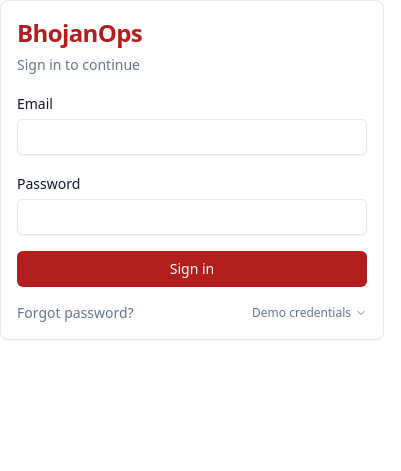
Scenario: LoginForm › toggles demo creds section when the button is clicked
The image size is (401, 471).
Click the button "Demo credentials" at (310, 313), box left=252, top=305, right=367, bottom=321
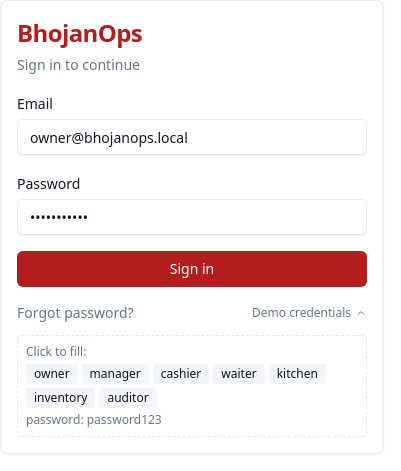
Result: the button "Demo credentials" is expanded at left=252, top=305, right=367, bottom=321
Result: the element with id "demo-creds" is shown at left=17, top=335, right=367, bottom=437
Result: the button "owner" is shown at left=26, top=364, right=78, bottom=384
